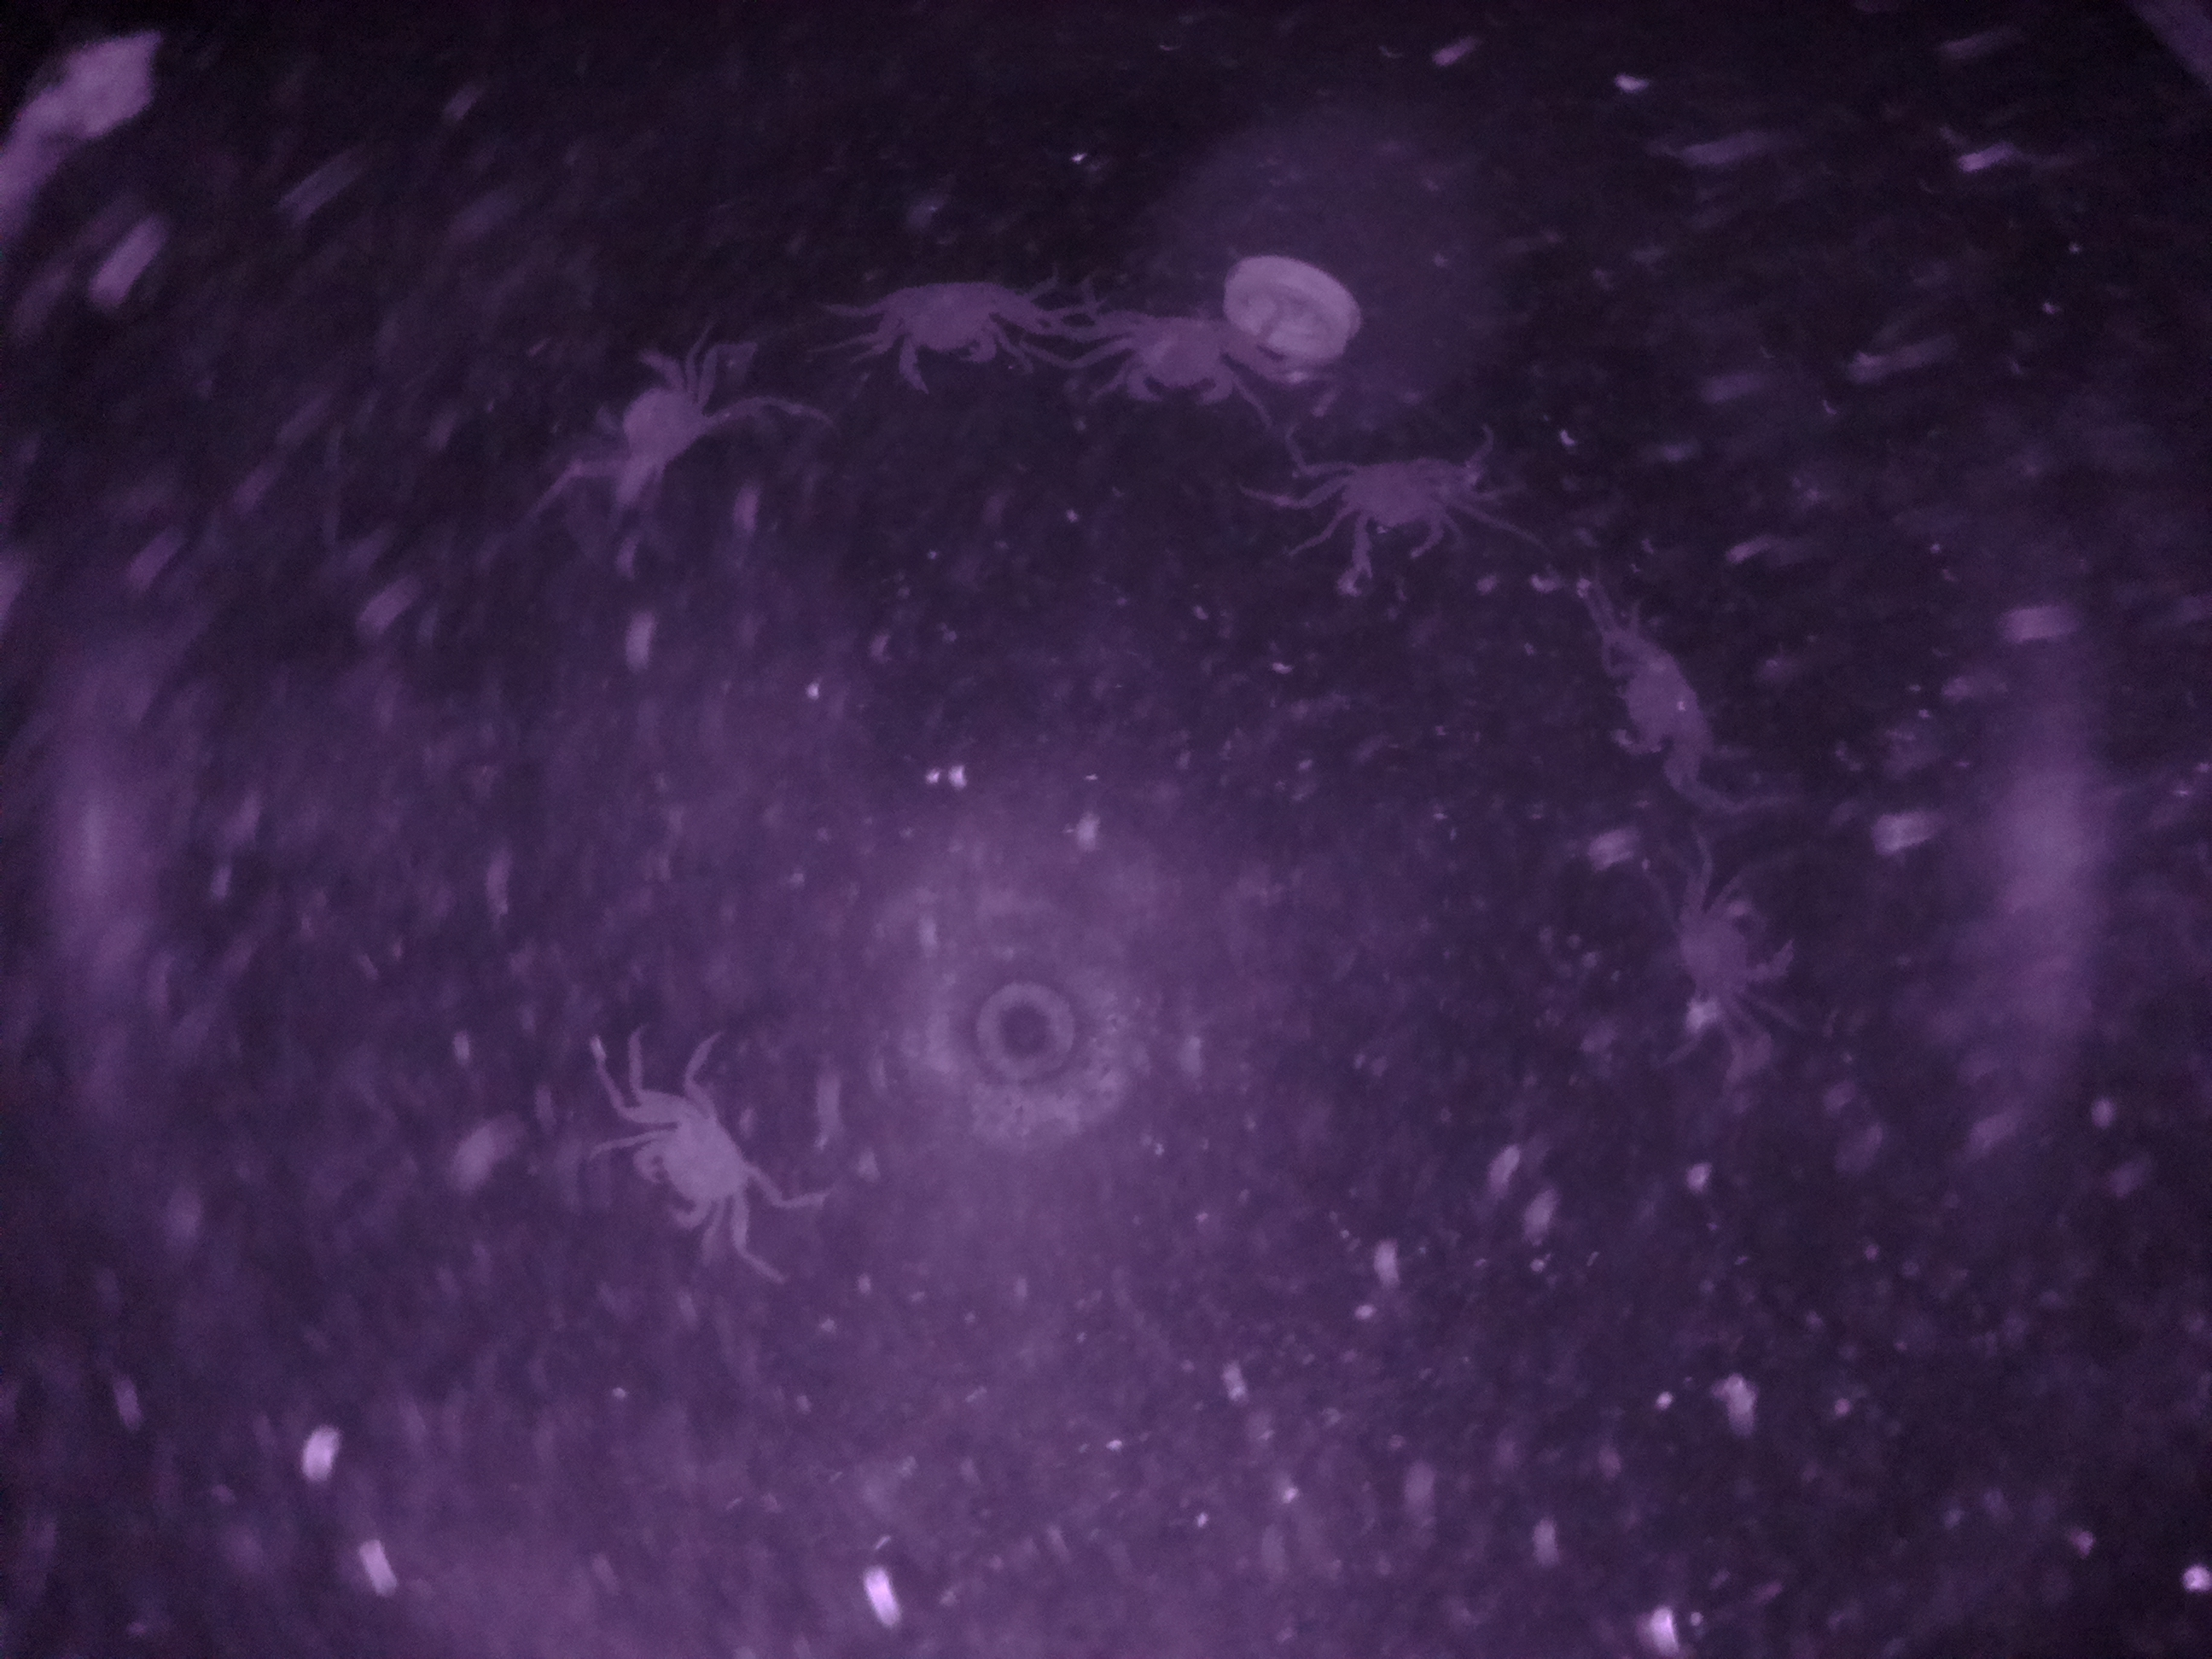Crab: (1261, 425, 1503, 599), (597, 1060, 791, 1265), (819, 272, 1089, 404), (1089, 291, 1287, 415)
